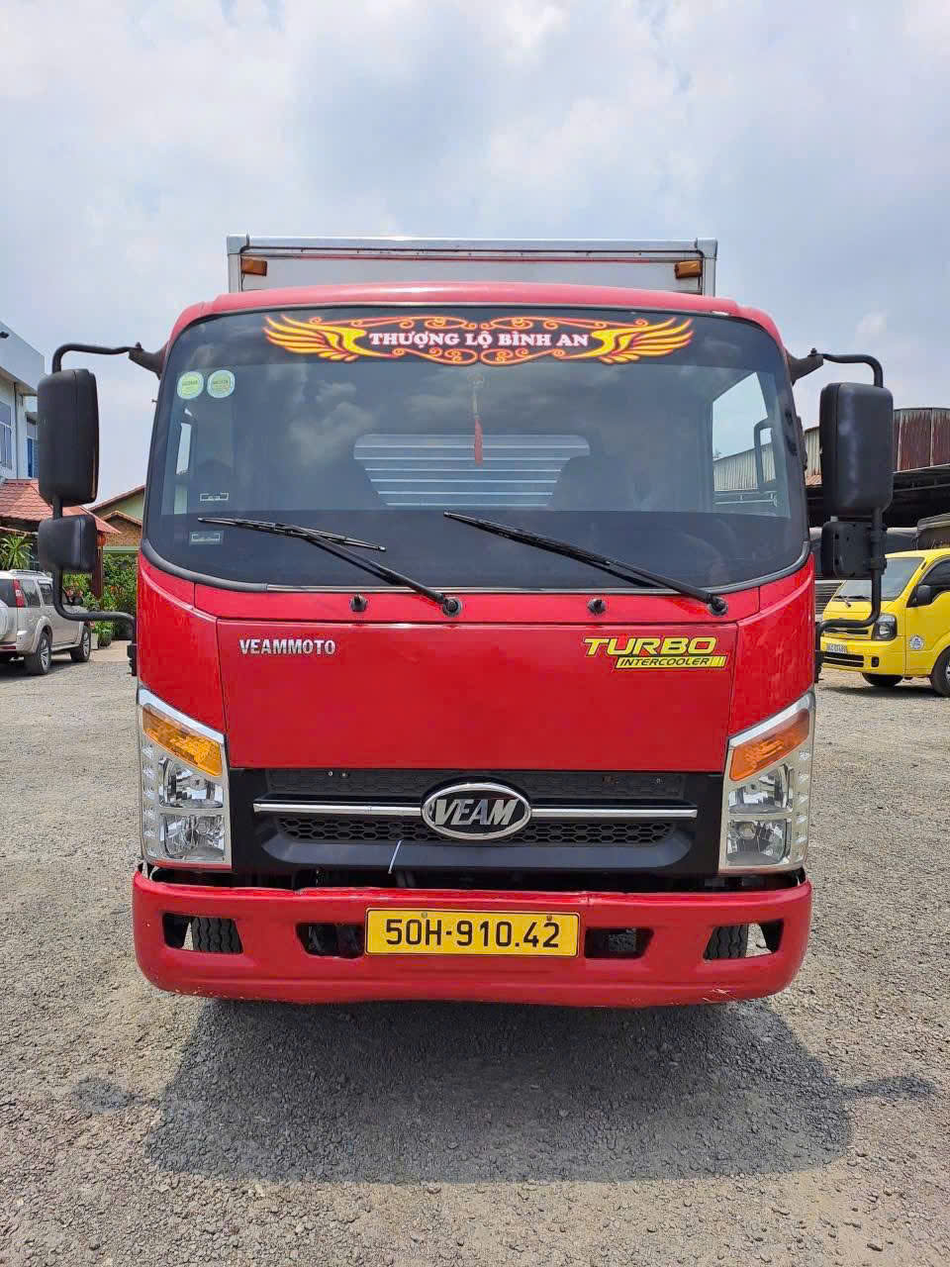Bien-so: (370, 911, 588, 962)
